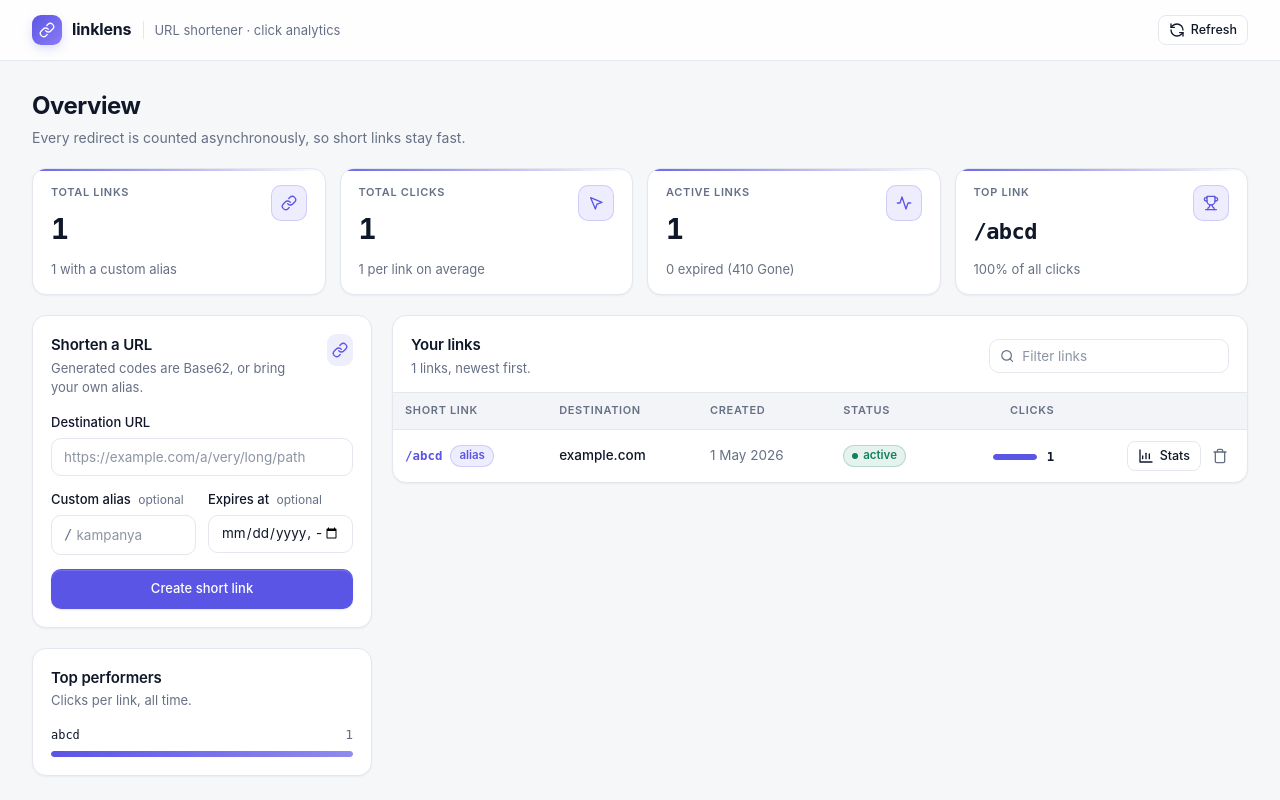
Test case: App › loads links, shows the summary and opens the stats panel
Later steps or results of the test are not shown.
Expected: the link "/abcd" is shown, [405,447,442,465]
Click the button "Stats" at (1164, 456), box [1127,441,1201,471]
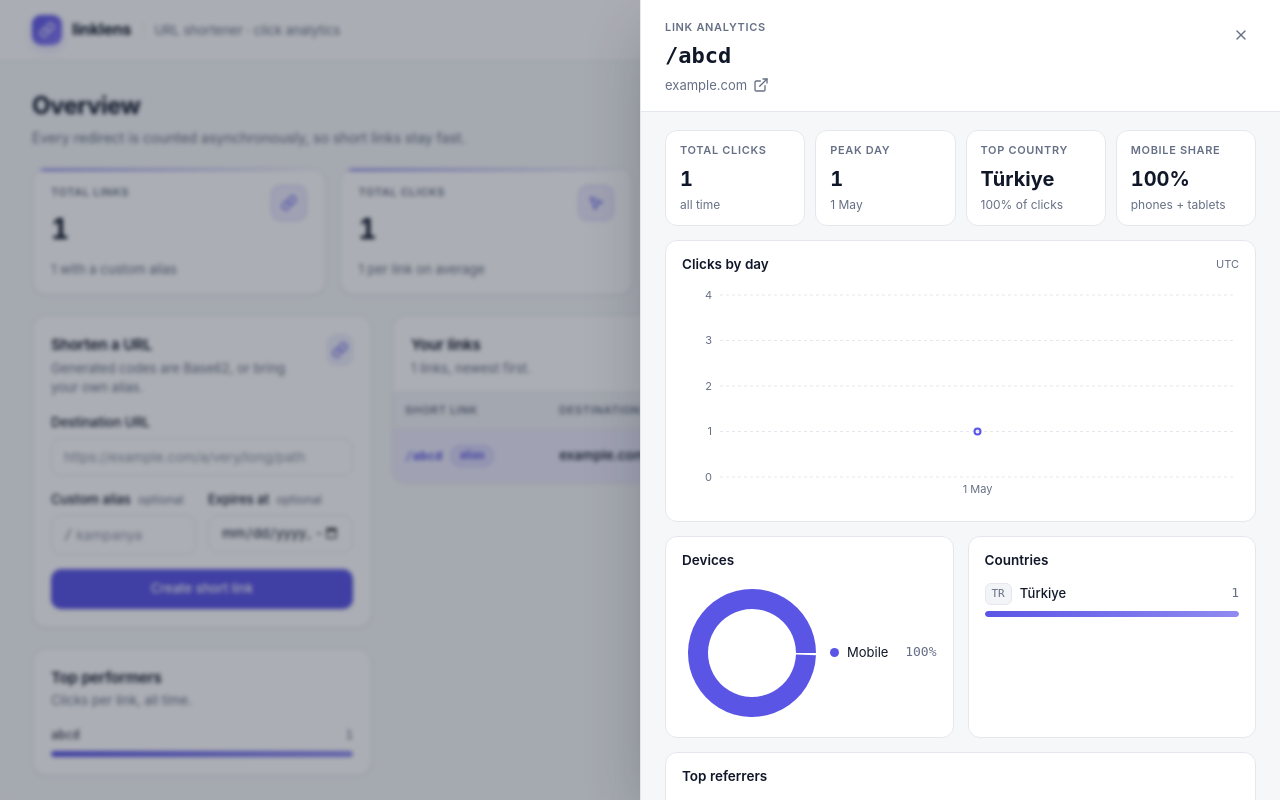
Result: the element named "Statistics for abcd" is shown at [640,0,1279,799]
